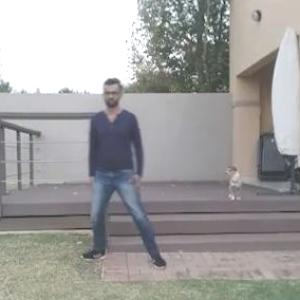follow: (86, 73, 144, 270)
